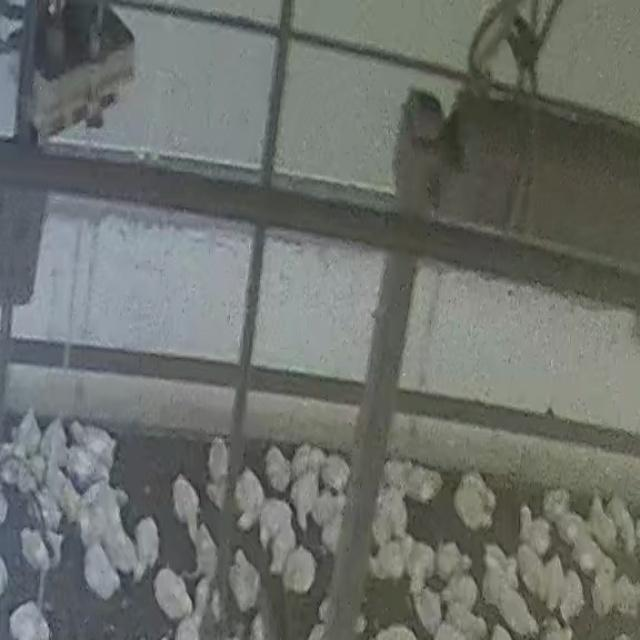chicken: (82, 540, 123, 601), (492, 581, 537, 635), (228, 545, 265, 608), (152, 564, 192, 622), (565, 520, 604, 579), (65, 442, 107, 491), (376, 483, 410, 542), (586, 494, 618, 555), (20, 526, 58, 577), (289, 470, 321, 530), (189, 522, 220, 582), (515, 543, 546, 603), (237, 466, 264, 530), (8, 599, 52, 638), (402, 463, 444, 503), (541, 553, 568, 615), (169, 478, 202, 528), (47, 458, 75, 516), (132, 514, 159, 574), (610, 492, 636, 554), (283, 548, 320, 591), (370, 538, 406, 582), (557, 566, 585, 622), (0, 456, 41, 493), (444, 604, 487, 639), (405, 540, 436, 588), (433, 540, 466, 584), (258, 498, 296, 536), (77, 422, 115, 460), (449, 572, 481, 616), (551, 506, 583, 550), (318, 452, 351, 493), (15, 406, 42, 455), (43, 416, 69, 466), (522, 514, 552, 557), (290, 444, 320, 484), (73, 496, 96, 548), (264, 444, 291, 487), (320, 511, 345, 557), (541, 487, 571, 525), (416, 588, 442, 631), (208, 436, 230, 484), (384, 456, 412, 491), (205, 480, 227, 512)
